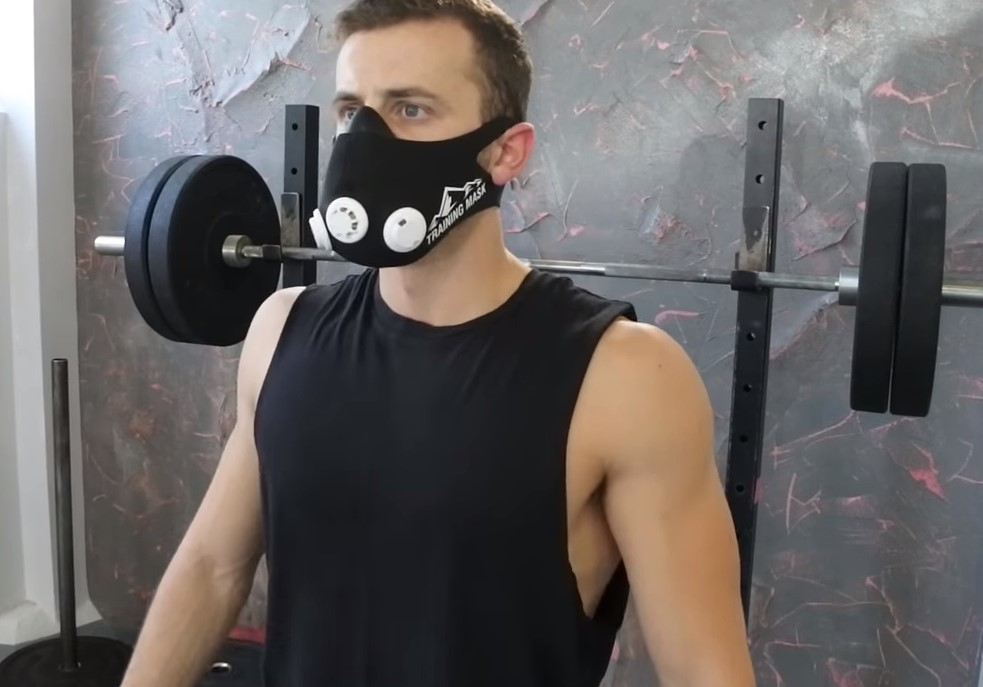face_with_mask: (312, 3, 534, 263)
